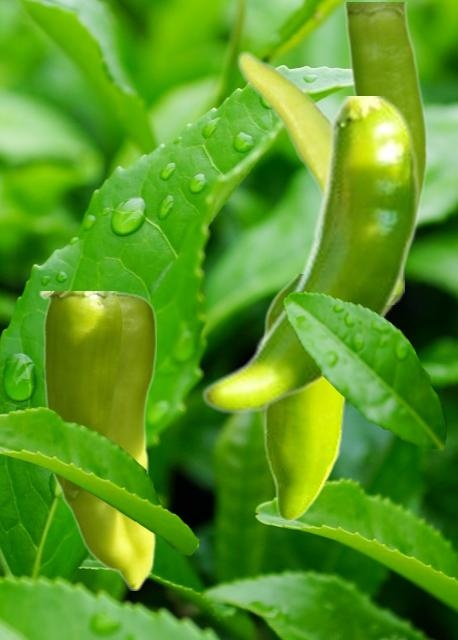green_chili: (200, 96, 420, 414), (237, 49, 403, 303), (38, 291, 155, 589), (342, 2, 426, 317), (262, 274, 349, 521)
